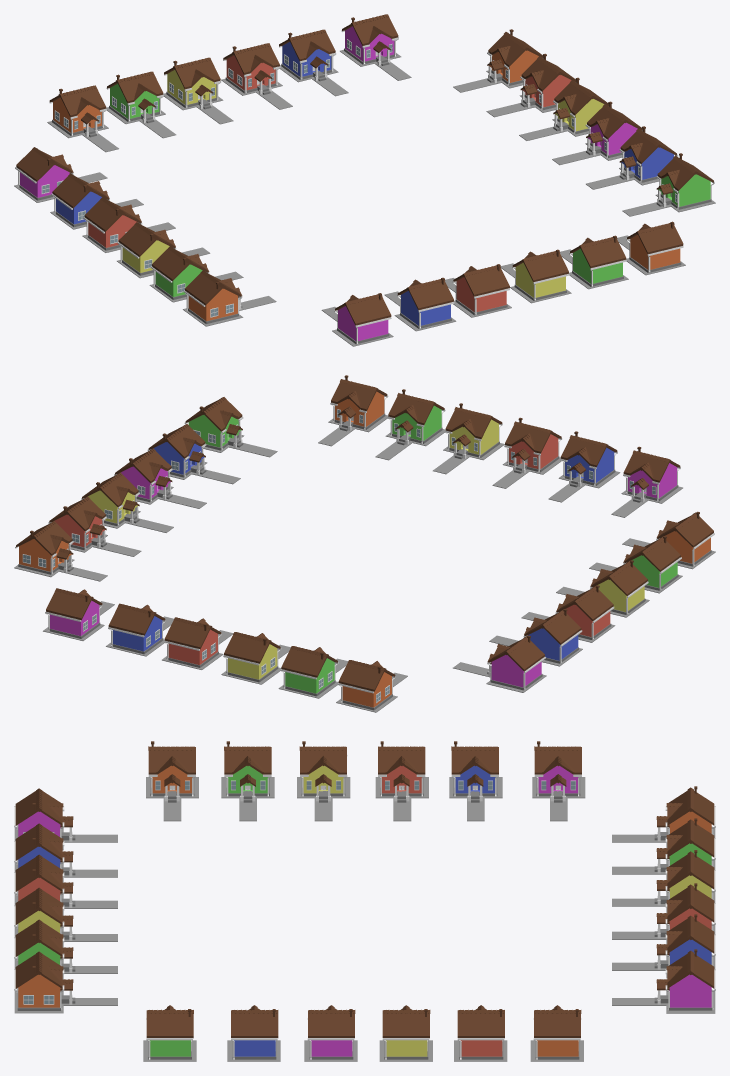
Rendered from HOUSES.glb.
3 views of the same model, one above another, from view 1: azimuth 30°, elevation 25°; view 2: azimuth 150°, elevation 25°; view 3: azimuth 270°, elevation 25° (orthographic). The views are drawn at different scales.
Parts seen in each view (by area): view 1: HOUSES; view 2: HOUSES; view 3: HOUSES.
Boxes of the visible parts, box(x1,y1,x2,y2) form: HOUSES: box(14, 14, 715, 346); HOUSES: box(14, 375, 715, 712); HOUSES: box(14, 741, 715, 1061).
Size of the model in its own units: 7.05 by 0.505 by 7.35.
